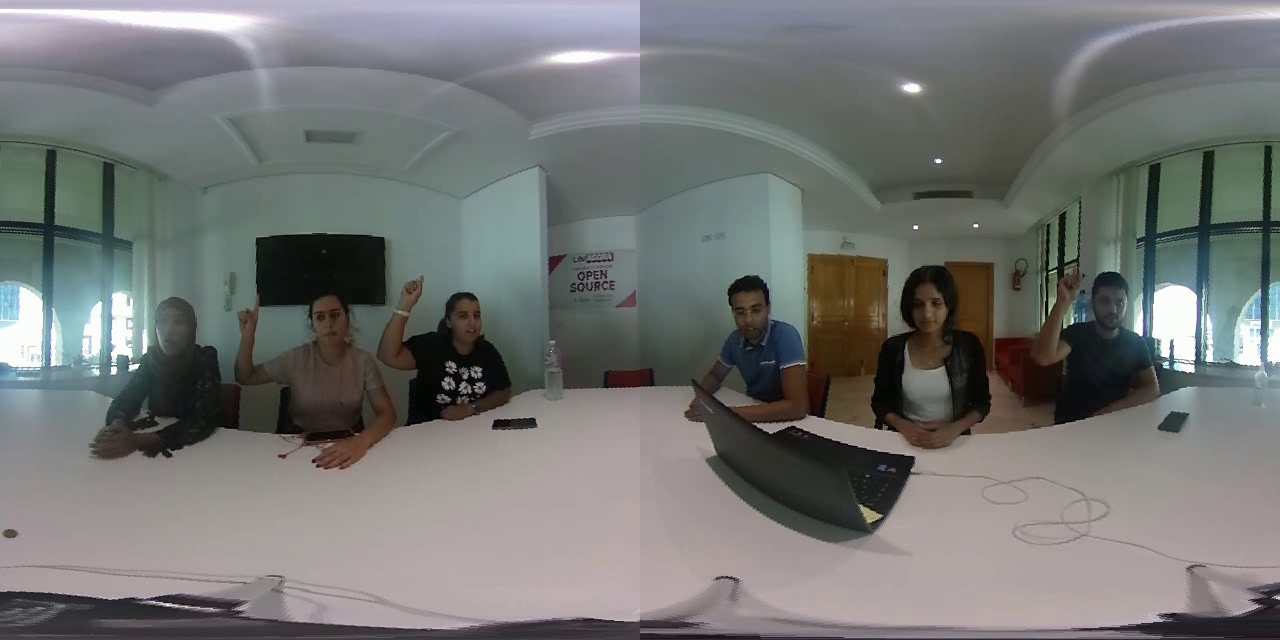person: (227, 287, 390, 478), (97, 288, 231, 464), (868, 260, 998, 438), (1033, 253, 1167, 415), (690, 265, 827, 421), (383, 274, 522, 427)
speaking: (1026, 251, 1089, 377), (225, 287, 284, 400), (378, 272, 427, 375)
